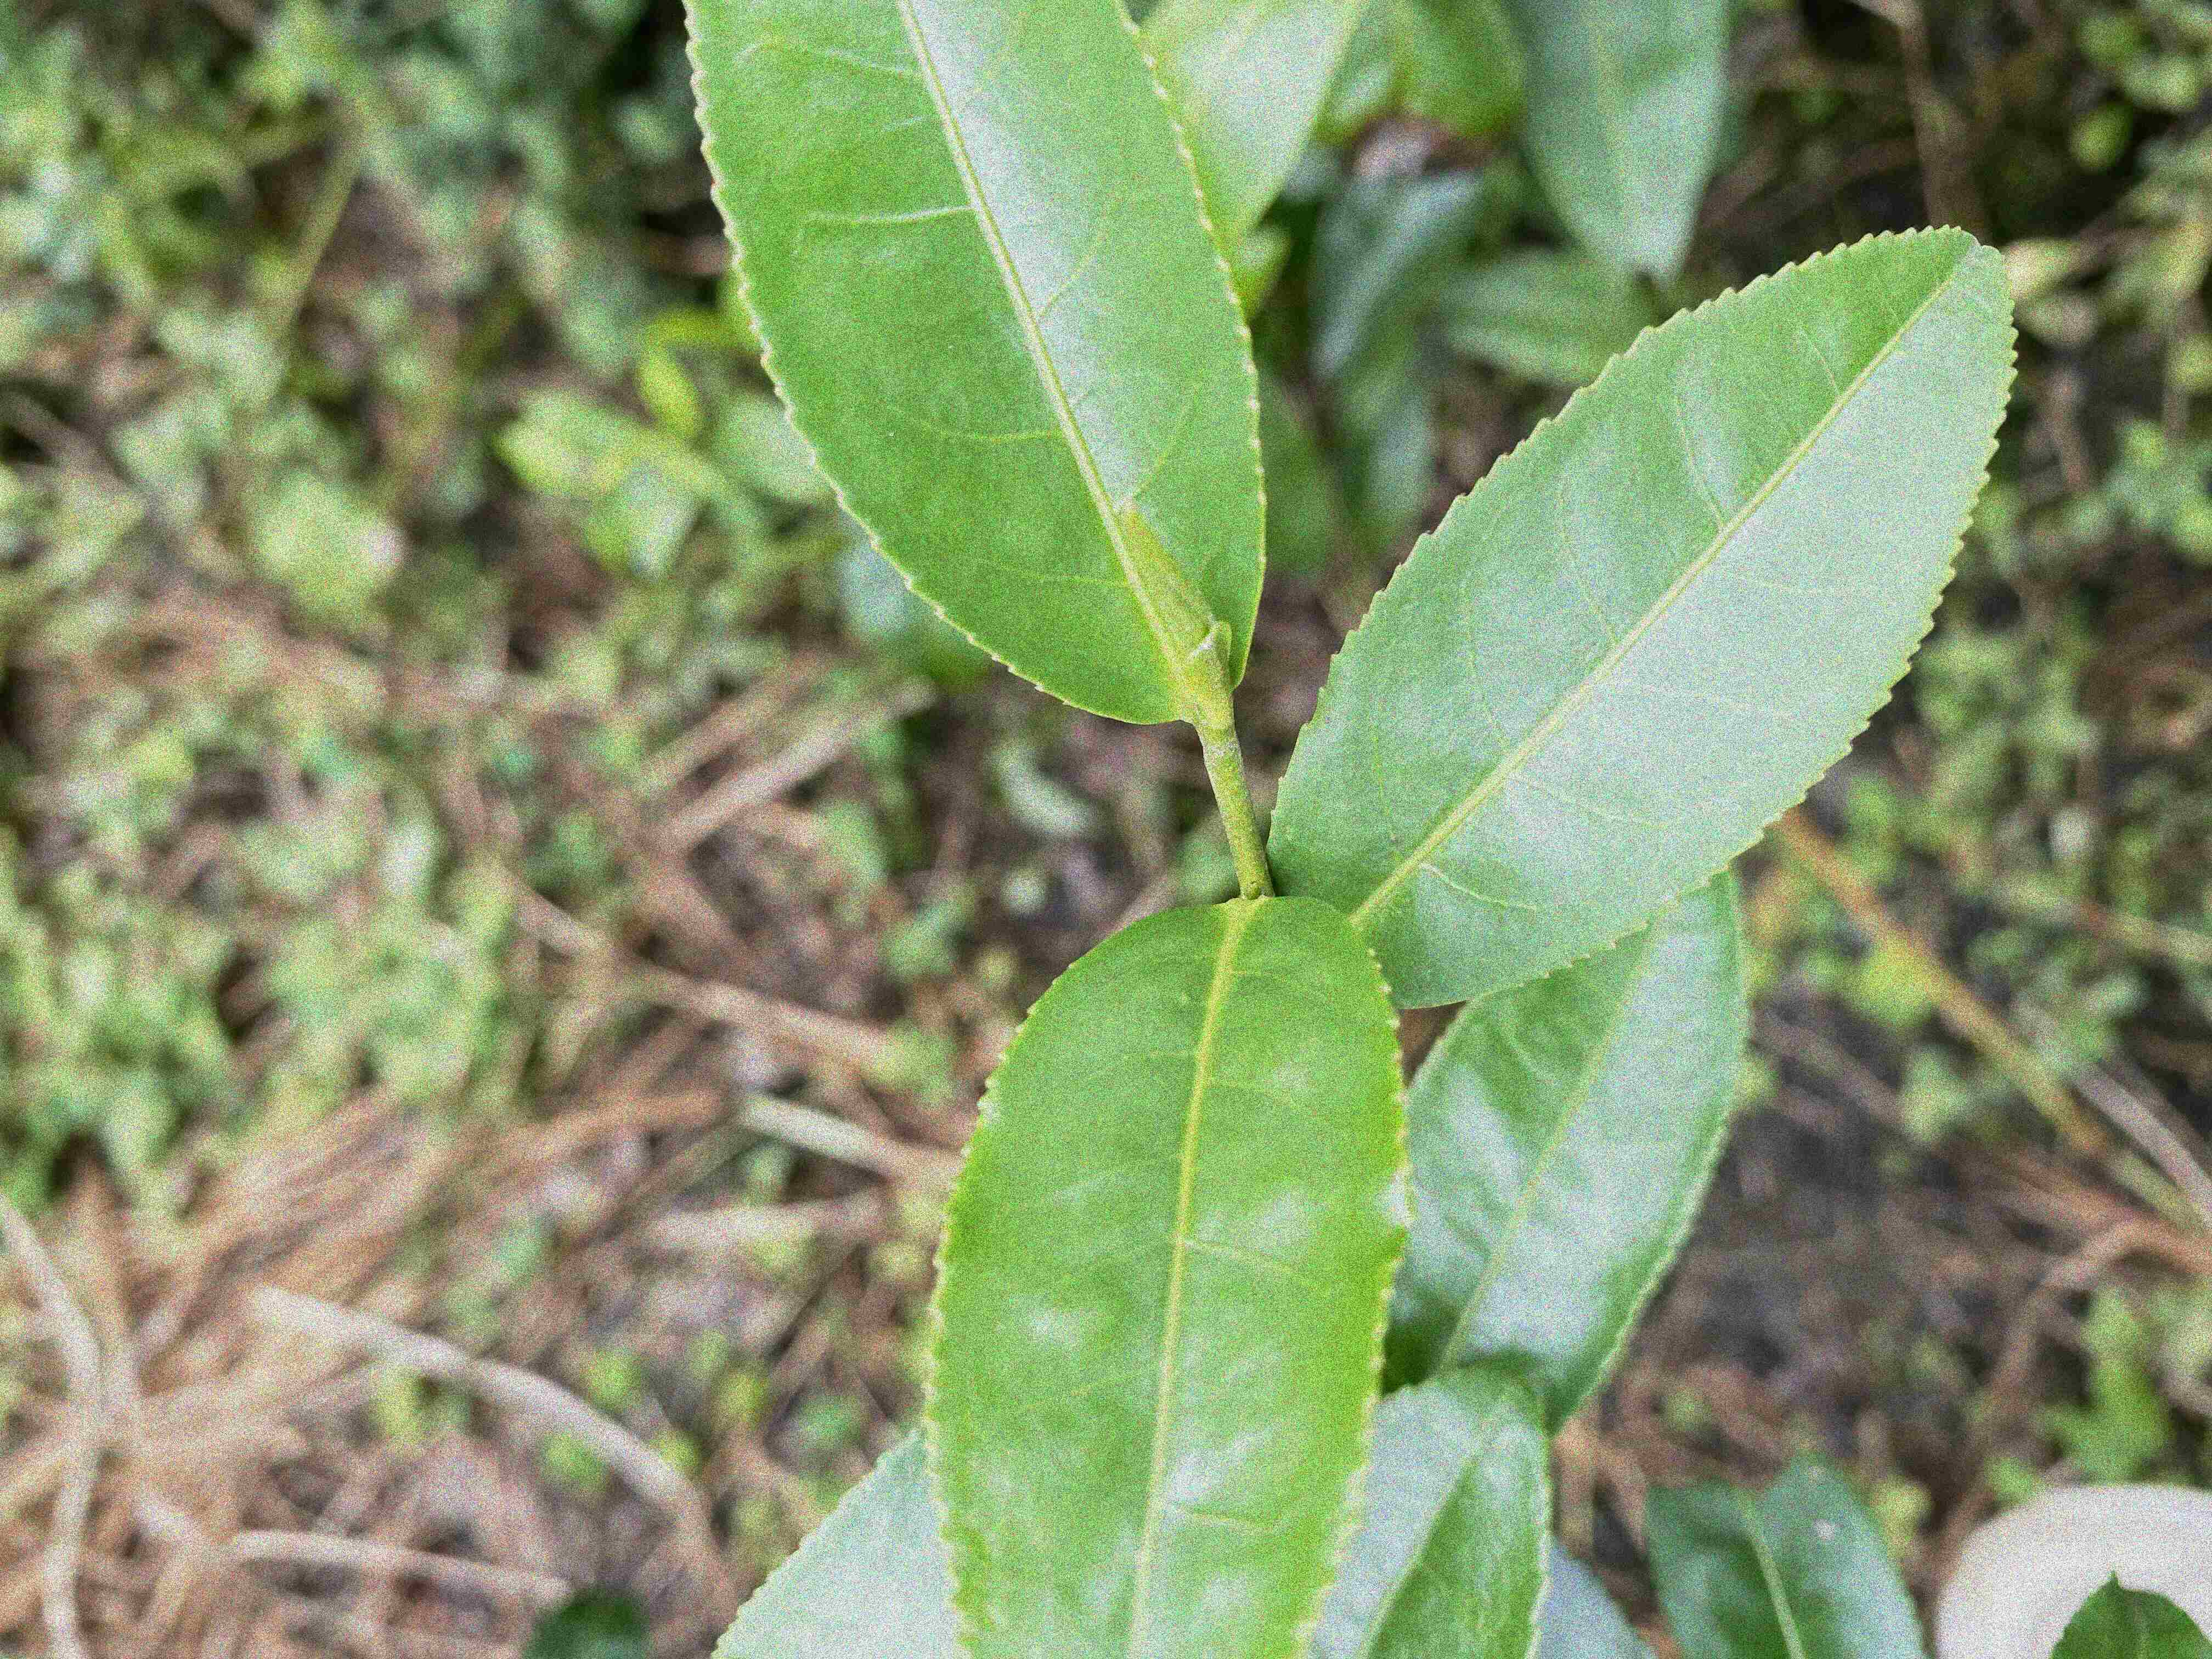healthy: (1264, 221, 2017, 1012), (671, 0, 1266, 727), (921, 892, 1418, 1657), (1383, 866, 1749, 1439)
